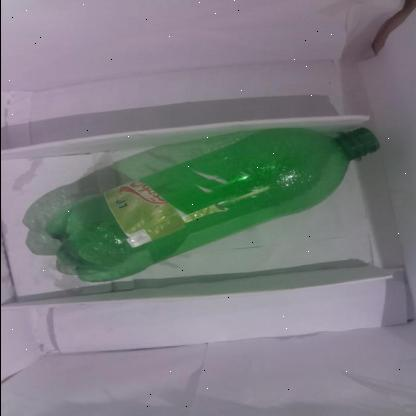Plastic Bottle: (45, 128, 378, 283)
